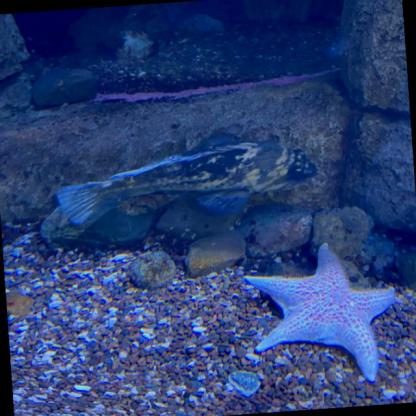fish: (52, 137, 333, 223)
starfish: (228, 236, 406, 384)
